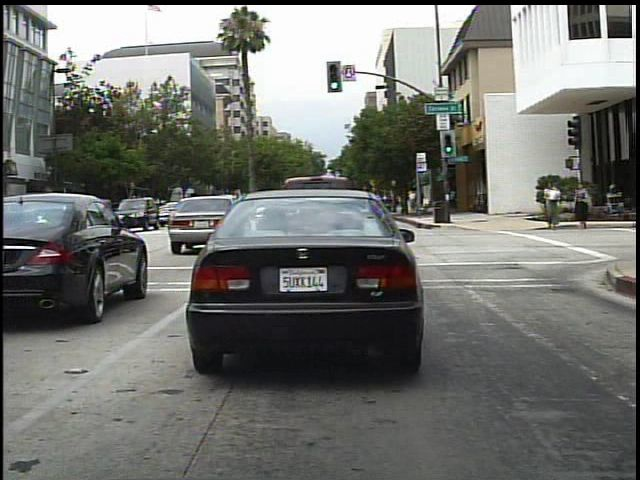person: (540, 177, 566, 232), (571, 177, 597, 231), (404, 187, 421, 218)
